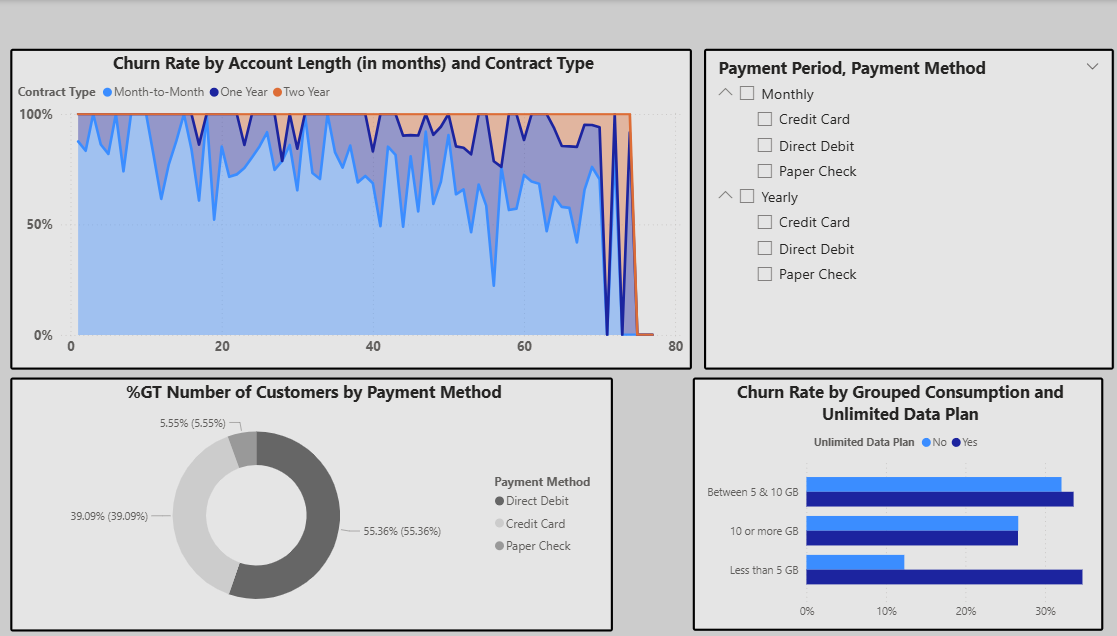

The dashboard page shown, as its layout file describes it:
{"tool":"powerbi","page":{"name":"Page 3","canvas":[1280,720],"ordinal":3},"visuals":[{"type":"hundredPercentStackedAreaChart","fields":{"Series":["Data analysis training.Contract Type"],"Y":["Data analysis training.Churn Rate"],"Category":["Data analysis training.Account Length (in months)"]},"box":[12.5,54.3,766.8,360.4],"z":0},{"type":"donutChart","fields":{"Category":["Data analysis training.Payment Method"],"Y":["Data analysis training.Number of Customers"]},"box":[12.5,424.4,677.7,285.3],"z":1000},{"type":"slicer","fields":{"Values":["Data analysis training.Payment Period","Data analysis training.Payment Method"]},"box":[792.7,54.2,460.5,360.7],"z":2000},{"type":"clusteredBarChart","fields":{"Category":["Data analysis training.Grouped Consumption"],"Y":["Data analysis training.Churn Rate"],"Series":["Data analysis training.Unlimited Data Plan"]},"box":[779.9,424.9,461.9,285.1],"z":3000}]}

Visuals, with their boxes in screenshot pixels (x1, y1, x2, y2), scaled from the page's 1280x720 canvas onto the 1117x636 screenshot:
hundredPercentStackedAreaChart - Data analysis training.Contract Type x Data analysis training.Churn Rate: x1=11 y1=48 x2=680 y2=366
donutChart - Data analysis training.Payment Method x Data analysis training.Number of Customers: x1=11 y1=375 x2=602 y2=627
slicer - Data analysis training.Payment Period x Data analysis training.Payment Method: x1=692 y1=48 x2=1094 y2=366
clusteredBarChart - Data analysis training.Grouped Consumption x Data analysis training.Churn Rate: x1=681 y1=375 x2=1084 y2=627
